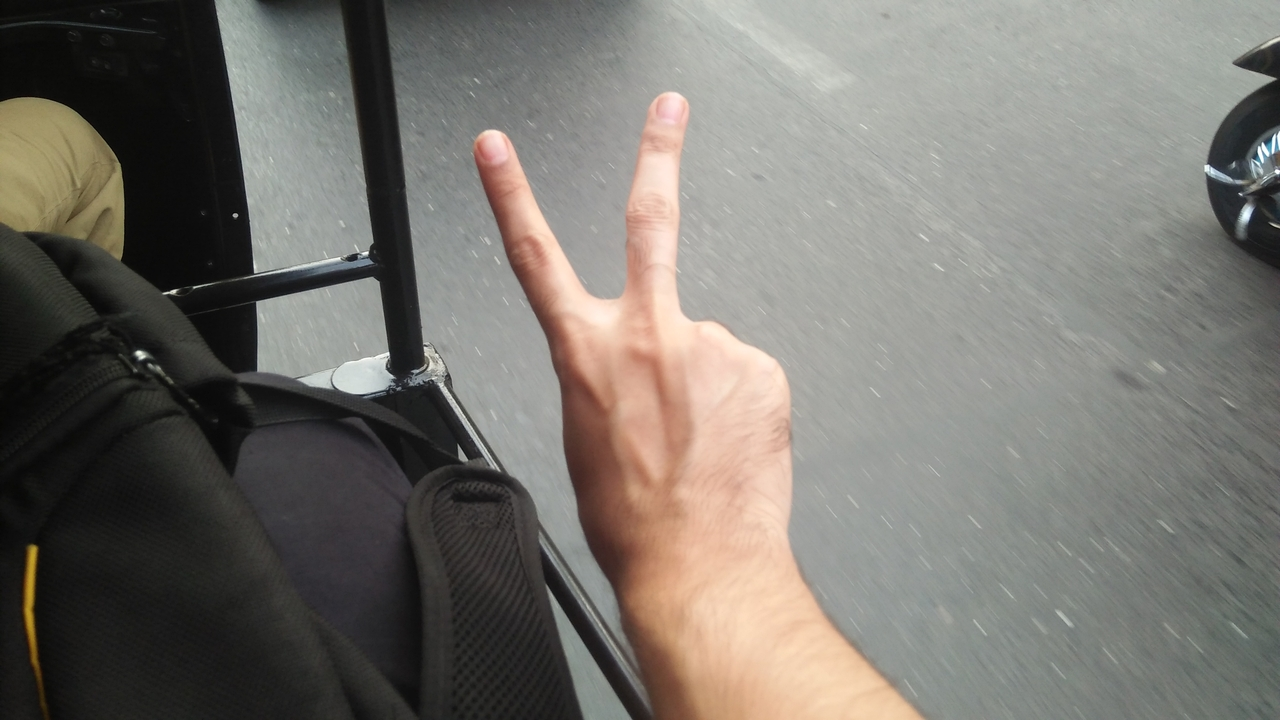fingertip: (636, 82, 698, 132), (464, 120, 518, 174)
